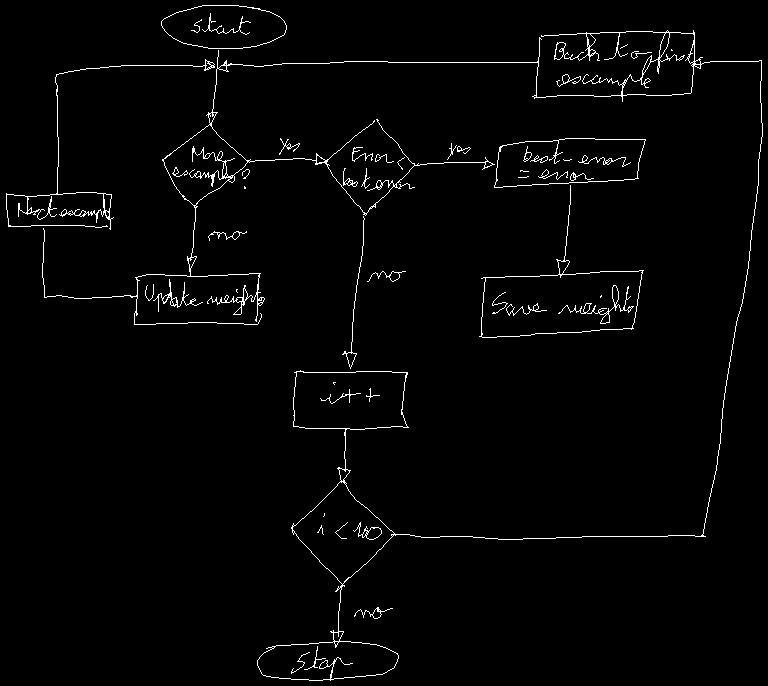arrow: (393, 57, 762, 539), (55, 59, 214, 194), (42, 228, 137, 298), (216, 60, 537, 71), (342, 216, 364, 368), (556, 185, 570, 277), (415, 157, 494, 169), (206, 50, 218, 125), (247, 153, 327, 164), (330, 584, 343, 647), (187, 205, 197, 275), (337, 429, 350, 482)
decision: (291, 480, 395, 591), (324, 119, 414, 215), (162, 124, 249, 207)
process: (532, 30, 694, 98), (479, 270, 643, 337), (494, 138, 645, 187), (293, 370, 408, 429), (134, 273, 261, 324), (6, 192, 111, 229)
terminator: (257, 641, 398, 680), (161, 5, 286, 48)
text: (554, 30, 694, 101), (492, 285, 633, 323), (520, 141, 630, 180), (145, 279, 264, 314), (172, 146, 249, 188), (343, 147, 414, 190), (18, 193, 113, 222), (291, 646, 352, 680), (317, 513, 381, 539), (191, 13, 250, 34), (320, 382, 379, 403), (354, 607, 392, 618), (367, 271, 405, 281), (447, 143, 470, 159), (208, 231, 246, 240), (279, 138, 299, 154)
